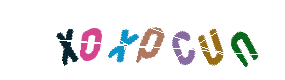C: (122, 0, 202, 80)
N: (172, 0, 252, 80)
O: (82, 0, 162, 80)
P: (117, 0, 197, 80)
U: (135, 0, 215, 80)
X: (50, 0, 130, 80), (100, 0, 180, 80)
